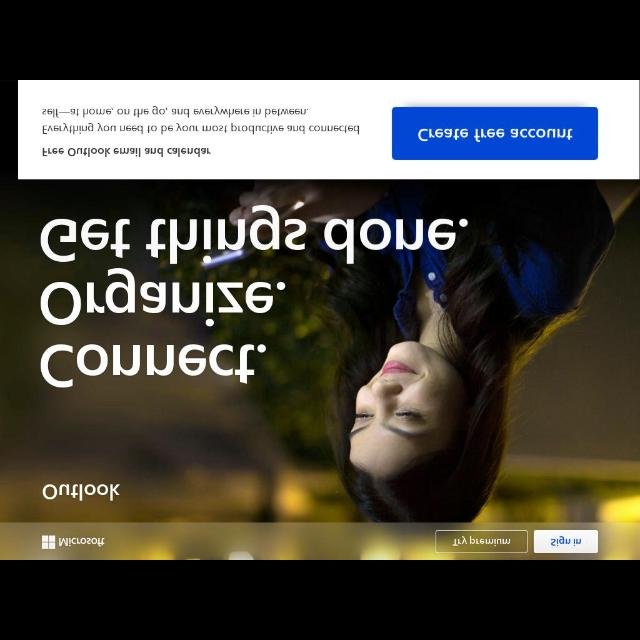icon: (37, 532, 59, 552)
image: (190, 184, 634, 520)
text: (32, 212, 470, 266), (38, 326, 272, 392), (32, 271, 298, 325), (42, 105, 360, 136), (41, 146, 213, 160), (35, 480, 128, 500), (59, 536, 105, 546)
textbutton: (390, 109, 596, 160), (432, 530, 528, 554), (534, 531, 598, 553)
toolbar: (2, 524, 640, 558)
